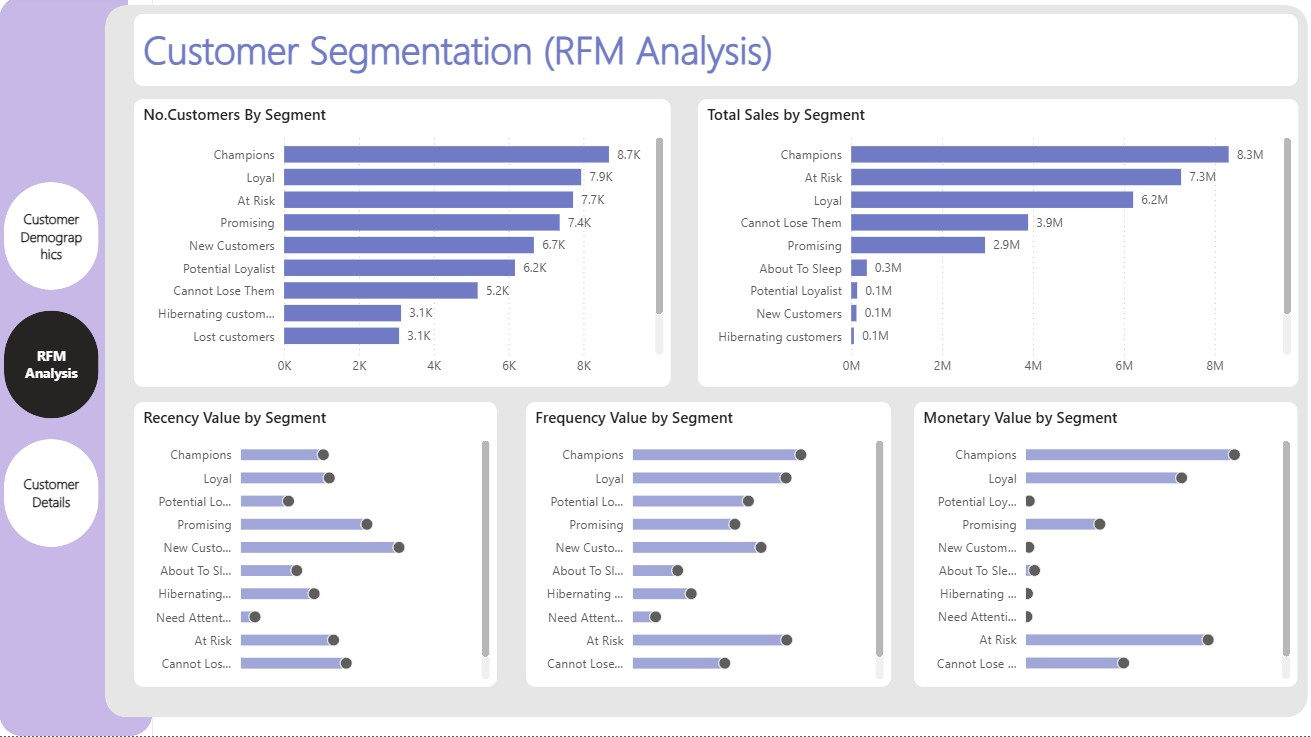

This screenshot's page, from the dashboard's own definition file:
{"tool":"powerbi","page":{"name":"RFM Analysis","canvas":[1280,720],"ordinal":1},"visuals":[{"type":"shape","box":[0,0,149.6,720.4],"z":0},{"type":"shape","box":[102.8,9.2,1170.1,692.9],"z":1000},{"type":"barChart","title":"No.Customers By Segment","fields":{"Category":["Segment.Segment"],"Y":["CountNonNull(FactInternetSales.CustomerKey)"]},"box":[131.3,99.7,522,279.8],"z":2000},{"type":"barChart","title":"Total Sales by Segment","fields":{"Category":["Segment.Segment"],"Y":["Sum(FactInternetSales.SalesAmount)"]},"box":[679.7,99.7,584,279.8],"z":3000},{"type":"barChart","title":"Recency Value by Segment","fields":{"Category":["Segment.Segment"],"Y":["Sum(RFM Table.Recency Value)"]},"box":[131.3,394.8,353.1,276.8],"z":4000},{"type":"barChart","title":"Frequency Value by Segment","fields":{"Category":["Segment.Segment"],"Y":["Sum(RFM Table.Frequency Value)"]},"box":[512.8,394.8,355.1,276.8],"z":5000},{"type":"barChart","title":"Monetary Value by Segment","fields":{"Category":["Segment.Segment"],"Y":["Sum(RFM Table.Monetary Value)"]},"box":[890.3,394.8,373.4,276.8],"z":6000},{"type":"textbox","box":[131.3,17.3,1132.5,70.2],"z":7000},{"type":"pageNavigator","box":[5.1,181.1,92.6,357.1],"z":7001}]}

Visuals, with their boxes in screenshot pixels (x1, y1, x2, y2), scaled from the page's 1280x720 canvas onto the 1311x737 screenshot:
shape: 0, 0, 153, 736
shape: 105, 9, 1304, 719
"No.Customers By Segment" barChart: 134, 102, 669, 388
"Total Sales by Segment" barChart: 696, 102, 1294, 388
"Recency Value by Segment" barChart: 134, 404, 496, 687
"Frequency Value by Segment" barChart: 525, 404, 889, 687
"Monetary Value by Segment" barChart: 912, 404, 1294, 687
textbox: 134, 18, 1294, 90
pageNavigator: 5, 185, 100, 551
